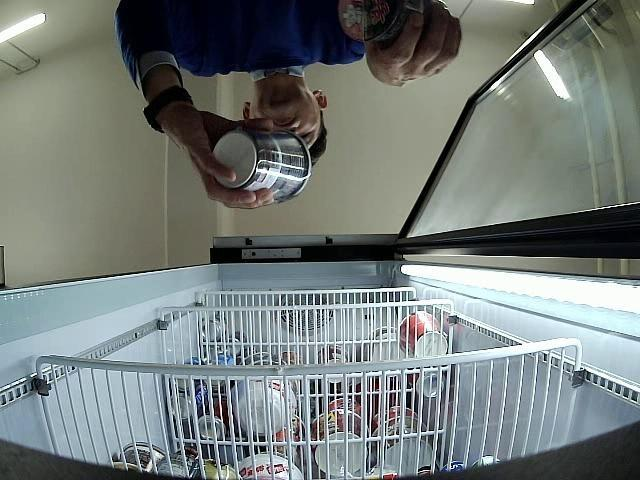08_buldak_S: (213, 128, 311, 202), (338, 0, 432, 43)
